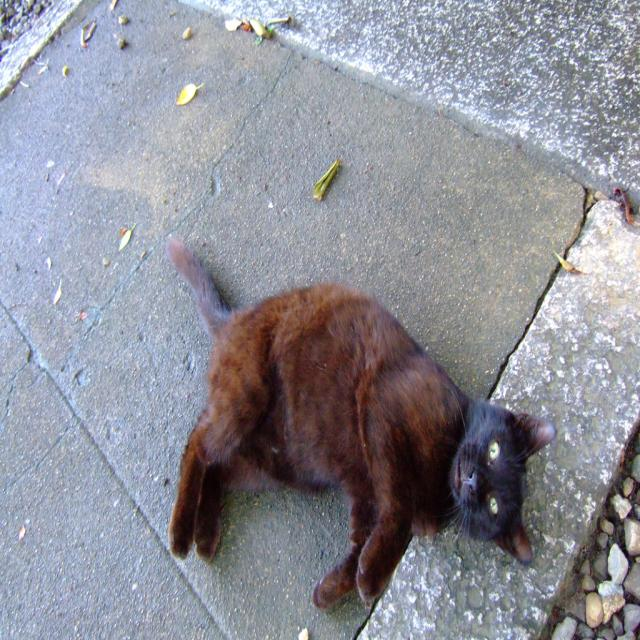left eye: (487, 494, 499, 517)
